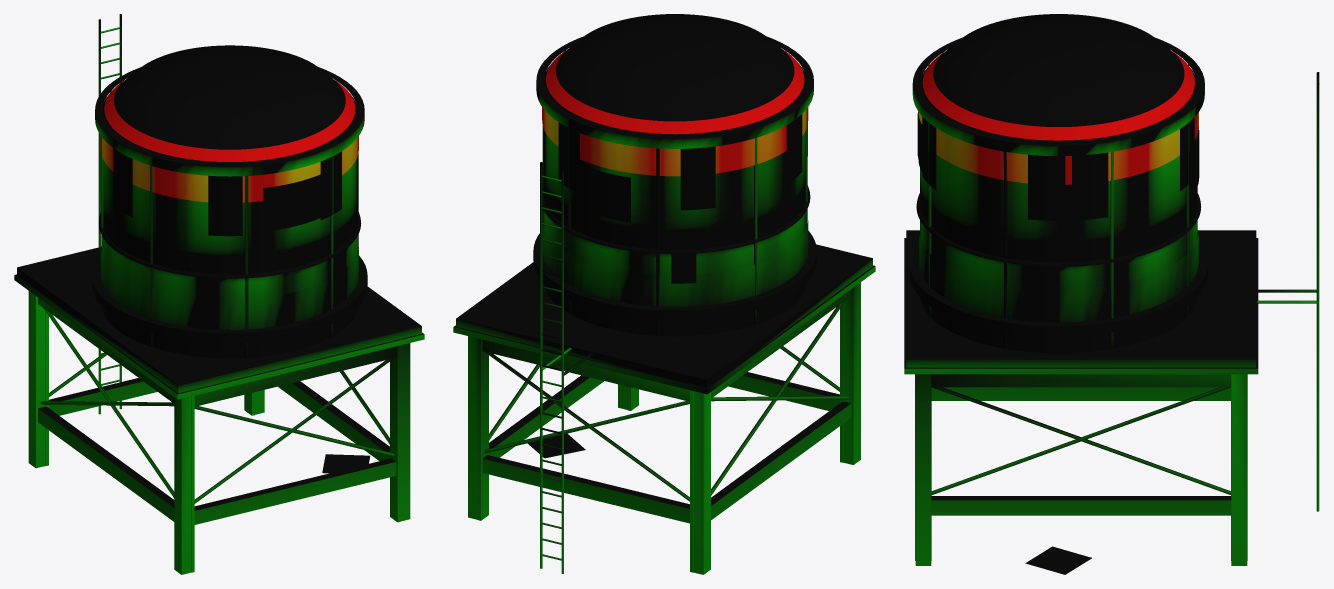
File: watertower.glb
3 renders of one model, left to right at view 1: azimuth 30°, elevation 25°; view 2: azimuth 150°, elevation 25°; view 3: azimuth 270°, elevation 25°, orthographic. The views are drawn at different scales.
Visible parts, largest first — view 1: lod0; view 2: lod0; view 3: lod0.
Part boxes in pixels (x1,y1,x2,y2): lod0: (14,14,424,574); lod0: (453,14,875,574); lod0: (904,14,1319,574).
Size of what is drawn, in the model's own units: 6.38 by 9.55 by 7.93.
